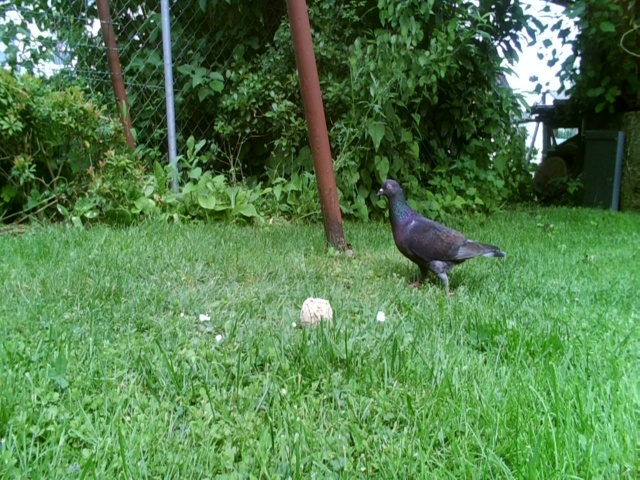Pigeon: (370, 175, 505, 292)
